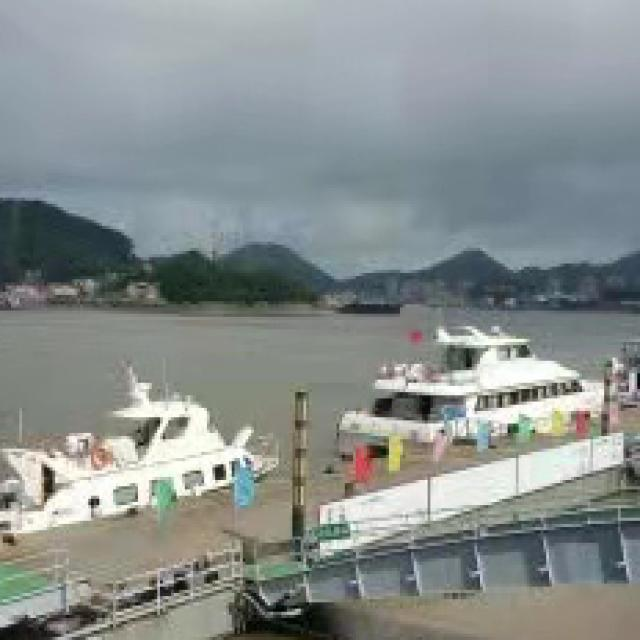houseboat: (0, 374, 284, 536), (337, 322, 611, 461)
